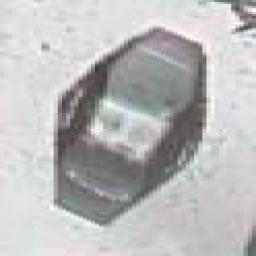crystals: (39, 23, 208, 236)
